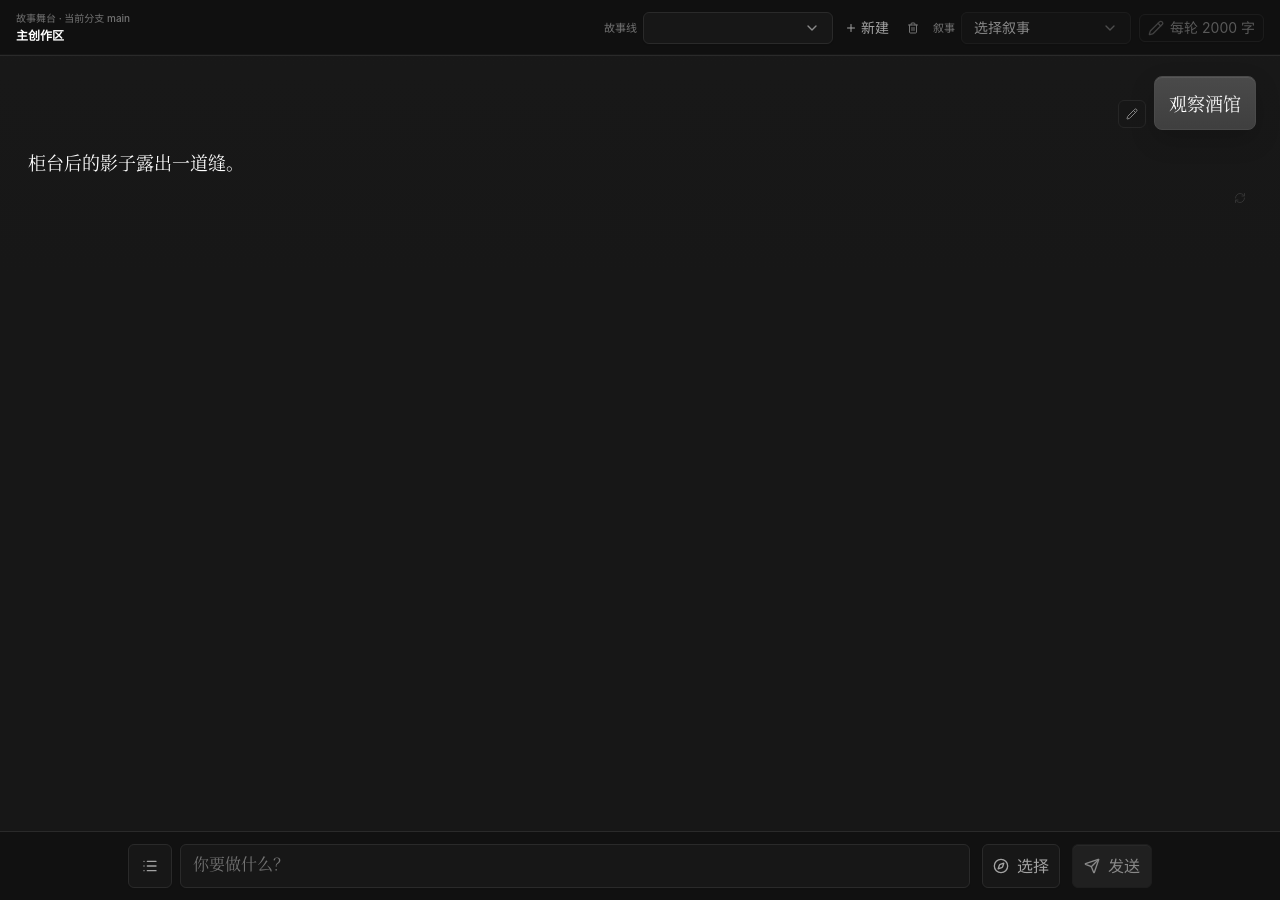
Test: StoryStage › fills the input from generated hot choices without sending immediately
Click the button with aria-label "获取行动选择" at (1021, 866), box [982, 844, 1060, 888]
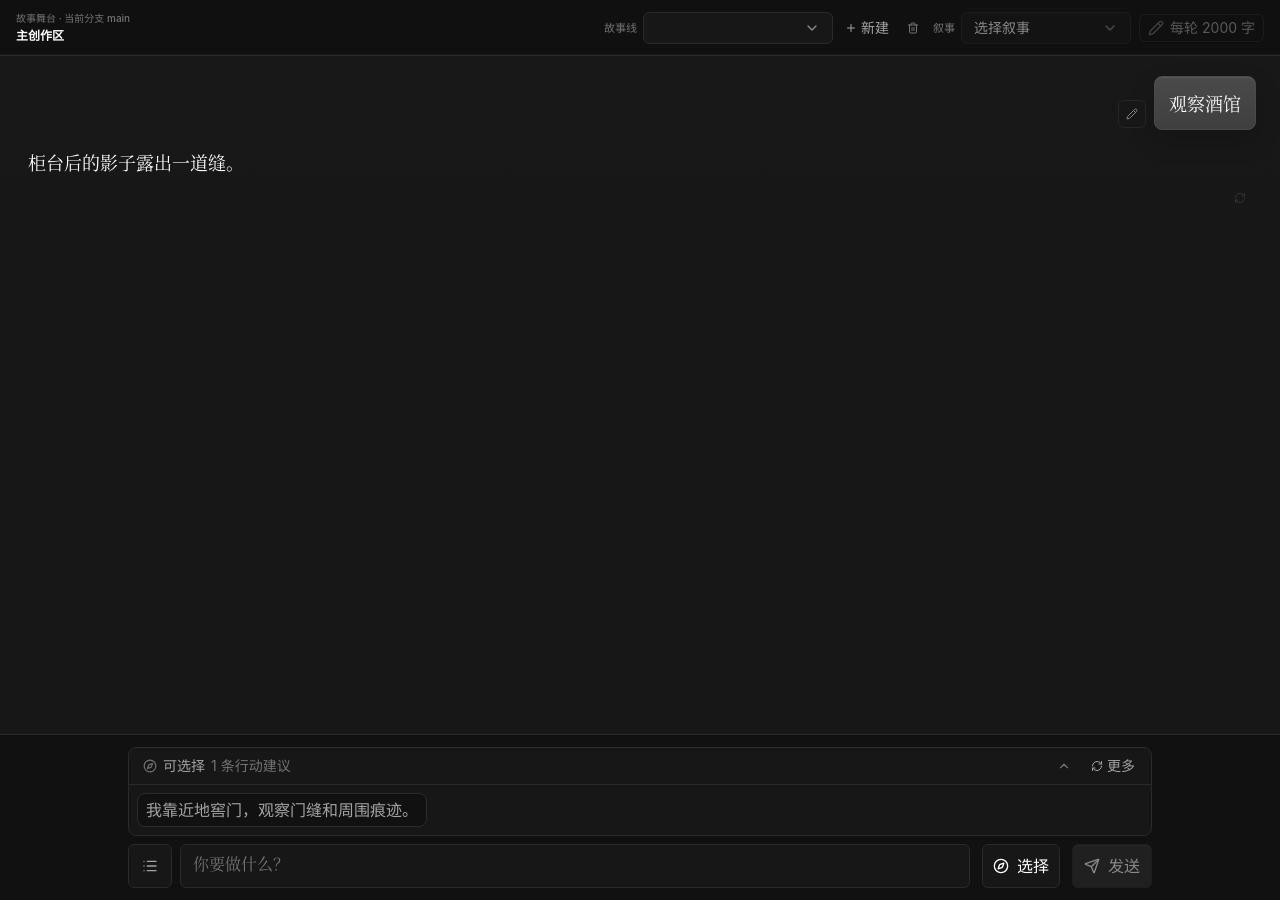
Click the button "我靠近地窖门，观察门缝和周围痕迹。" at (282, 810), box [137, 793, 427, 827]
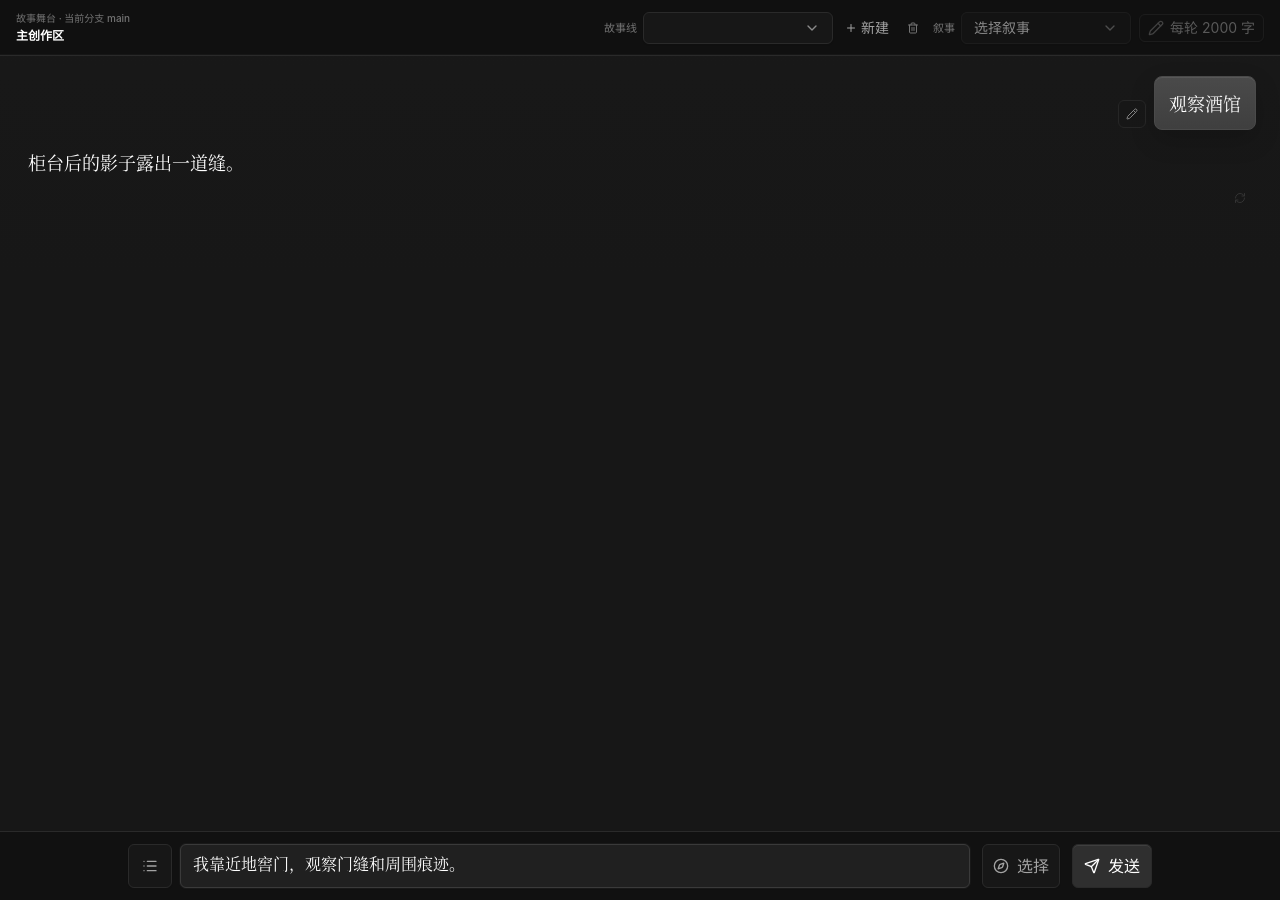
Result: the text box with placeholder "你要做什么？" holds "我靠近地窖门，观察门缝和周围痕迹。" at [180, 844, 970, 888]
